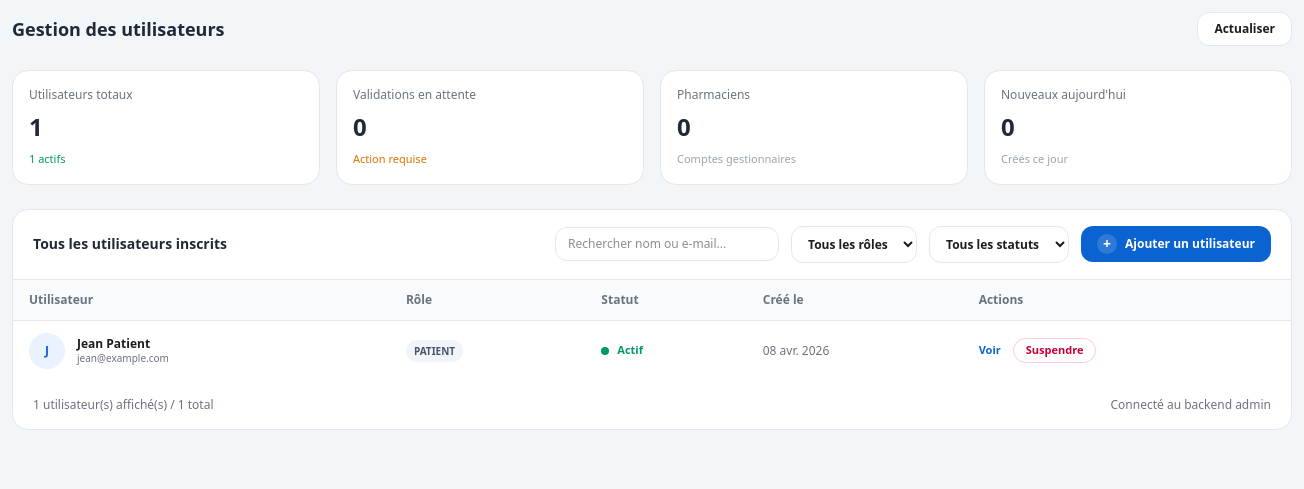
Admin flow integration › lets admin suspend a user from users list
This screenshot has width=1304, height=489.
Expected: the text "Jean Patient" is shown, [77,335,150,352]
Click the button "Suspendre".
click(1055, 351)  # box [1013,338,1096,363]
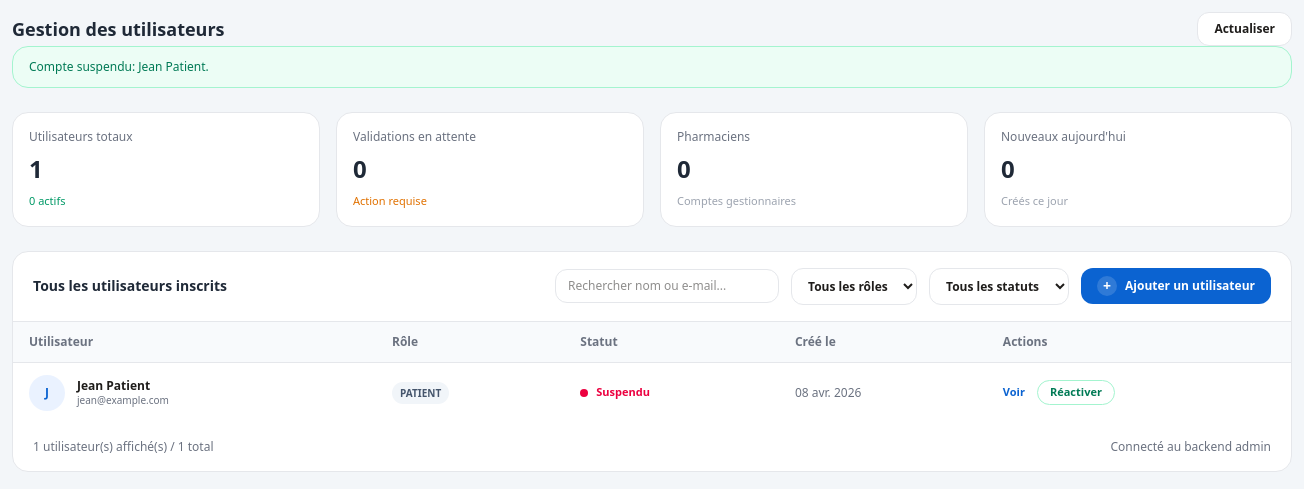
Expected: the text "Compte suspendu: Jean Patient." is shown, [12,46,1292,88]
Expected: the button "Réactiver" is shown, [1037,380,1115,405]
